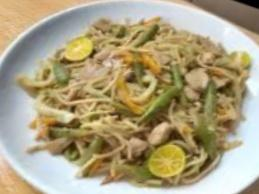pancit bihon: (33, 18, 247, 188)
